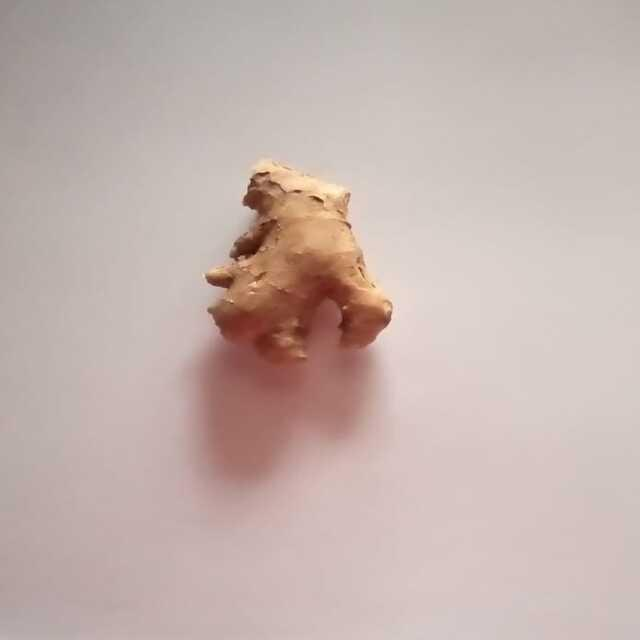ginger: (235, 168, 393, 351)
